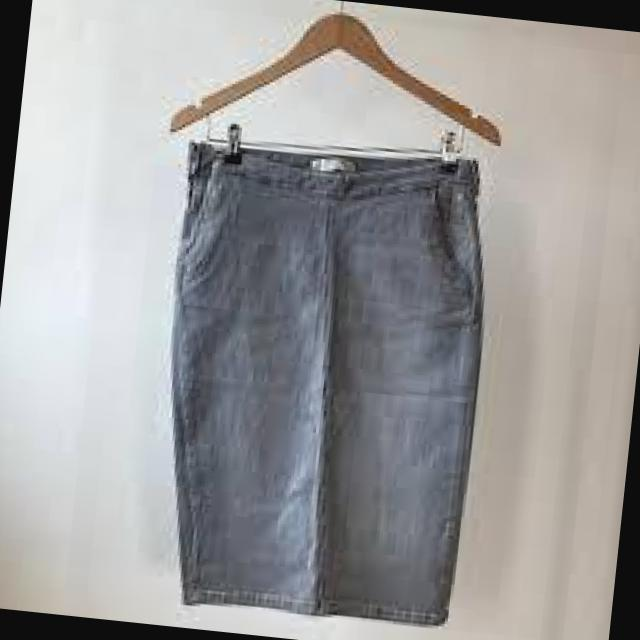skirt: (143, 117, 507, 630)
